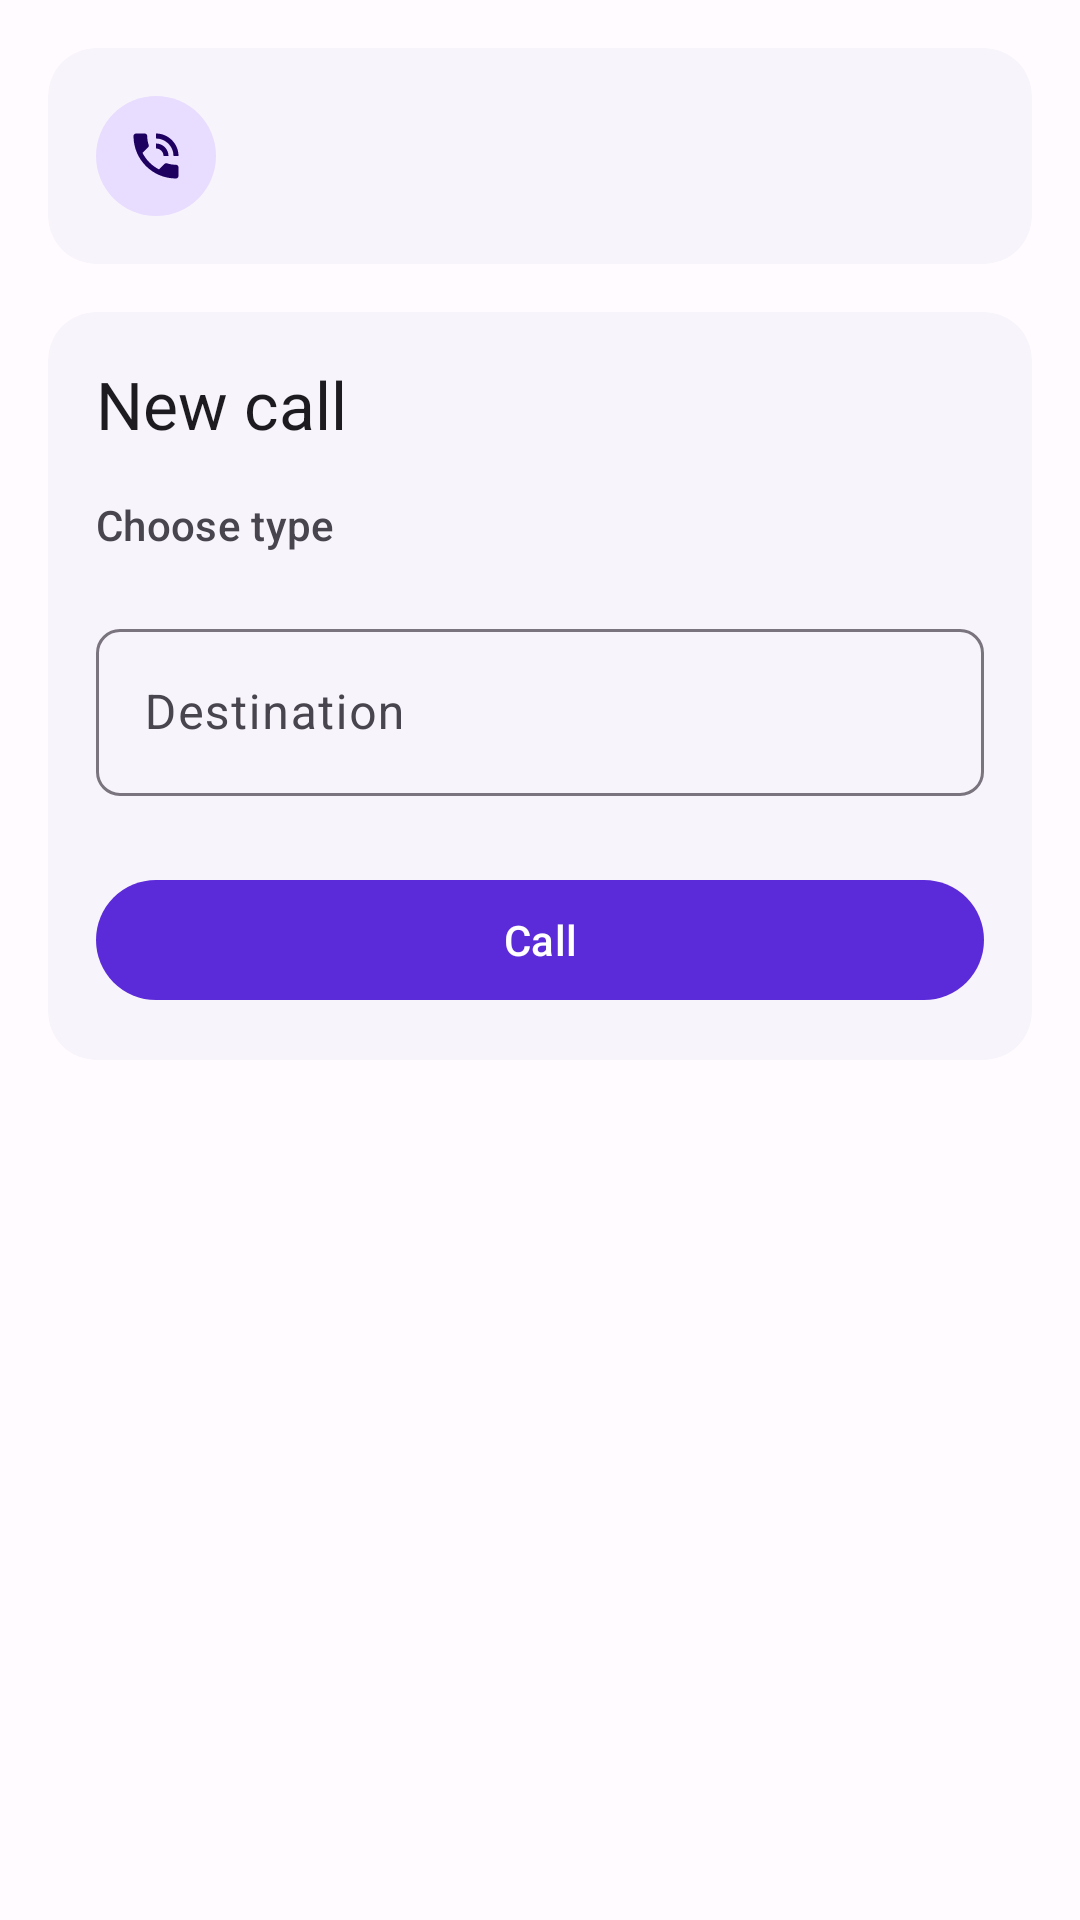

Icons on this 1080px x 1920px Android screen, each with the point to tap as point (x, y):
phone in talk: point (156, 156)
